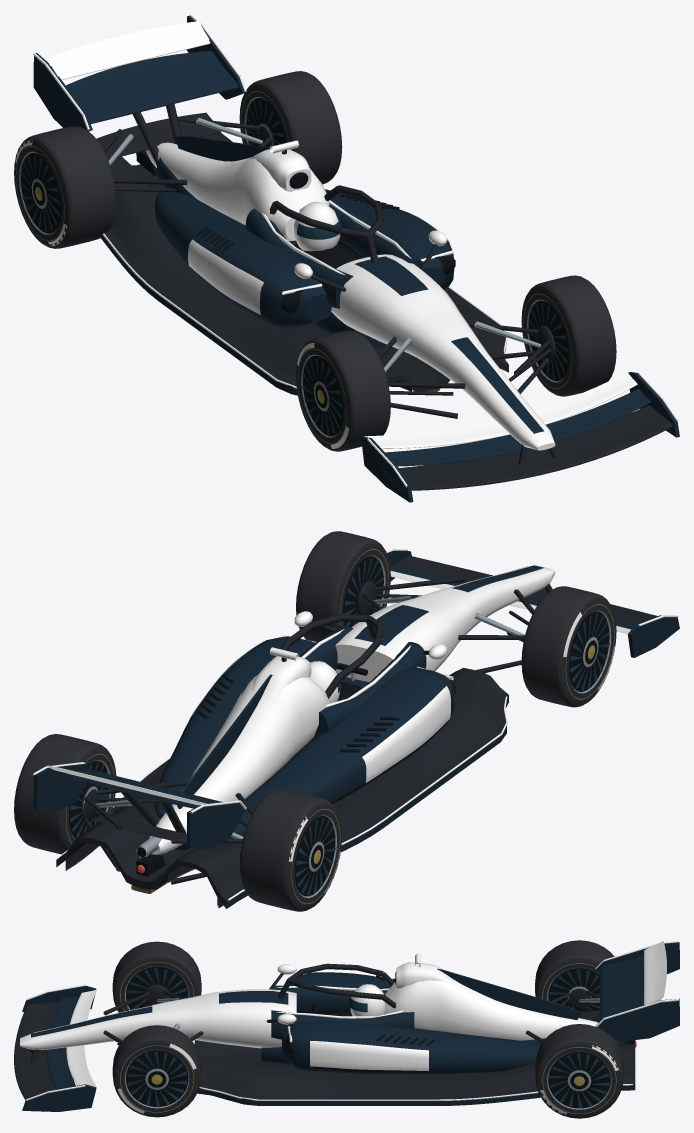
Rendered from formula.glb.
3 views of the same model, one above another, from view 1: azimuth 30°, elevation 25°; view 2: azimuth 150°, elevation 25°; view 3: azimuth 270°, elevation 25° (orthographic). The views are drawn at different scales.
Parts seen in each view (by area): view 1: body, wheel1, wheel0, wheel2, wheel3; view 2: body, wheel1, wheel0, wheel2, wheel3; view 3: body, wheel3, wheel2, wheel0, wheel1.
Part boxes in pixels (<box>): body: <box>33,14,679,502</box>; wheel1: <box>14,126,116,248</box>; wheel0: <box>296,330,390,451</box>; wheel2: <box>521,275,616,396</box>; wheel3: <box>239,71,342,184</box>; body: <box>33,549,679,908</box>; wheel1: <box>239,789,342,911</box>; wheel0: <box>521,586,616,707</box>; wheel2: <box>296,531,390,641</box>; wheel3: <box>14,734,116,854</box>; body: <box>14,940,679,1111</box>; wheel3: <box>535,1024,623,1118</box>; wheel2: <box>112,1025,201,1117</box>; wheel0: <box>112,941,201,1012</box>; wheel1: <box>535,940,614,1011</box>.
Size of the model in its own units: 2.02 by 1.02 by 5.49.
